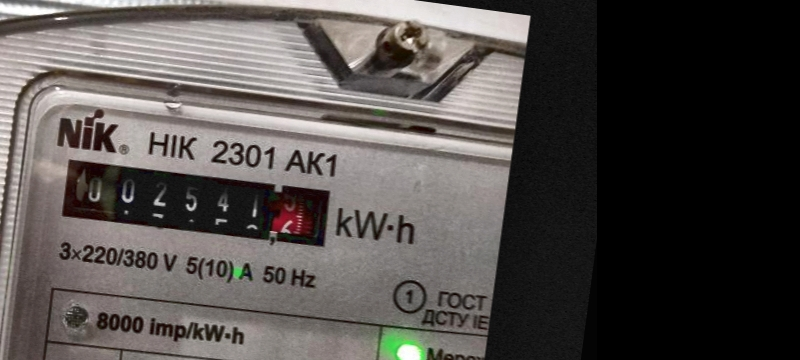0: (116, 171, 139, 206), (85, 172, 105, 203)
1: (243, 185, 263, 219)
2: (146, 174, 172, 210)
4: (212, 182, 233, 215)
5: (180, 180, 200, 214)
6: (276, 213, 295, 236)
screen: (44, 139, 353, 268)
